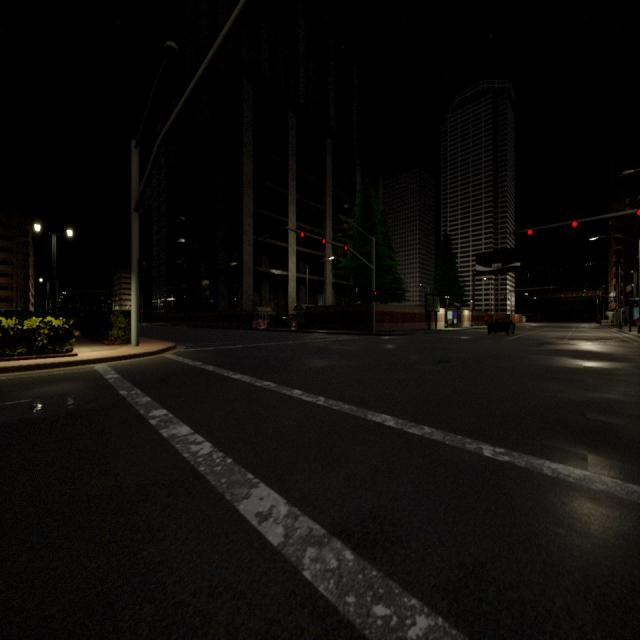Vehicle: (488, 318, 516, 336)
traffic_light: (138, 259, 145, 281), (636, 208, 640, 230), (572, 221, 578, 235), (528, 228, 532, 244), (373, 291, 377, 302), (322, 238, 326, 247), (301, 231, 304, 240), (344, 246, 347, 253), (561, 294, 564, 299), (616, 306, 618, 312), (574, 293, 576, 298), (123, 298, 125, 302), (589, 293, 591, 297), (102, 297, 104, 300), (112, 298, 114, 300)
